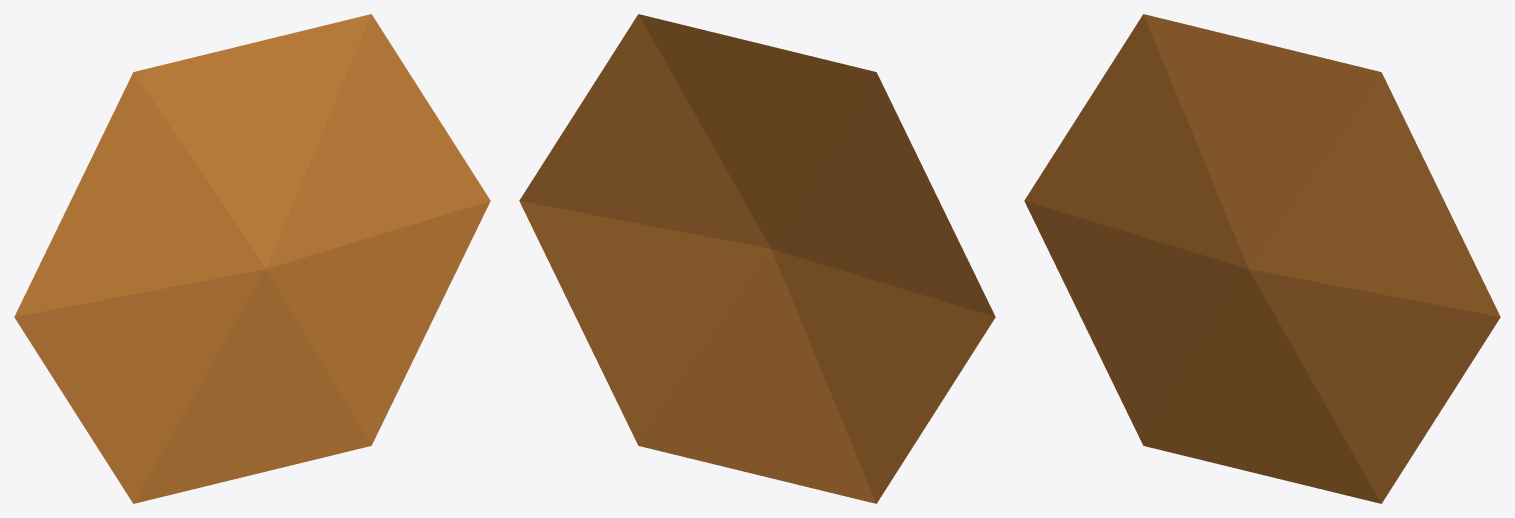
The model's file is shallow_fan.glb.
3 renders of one model, left to right at view 1: azimuth 30°, elevation 25°; view 2: azimuth 150°, elevation 25°; view 3: azimuth 330°, elevation 25°, orthographic.
Parts seen in each view (by area): view 1: Shallow fan; view 2: Shallow fan; view 3: Shallow fan.
Boxes of the visible parts, x1,y1,x2,y2 form: Shallow fan: (14, 14, 490, 503); Shallow fan: (519, 14, 995, 503); Shallow fan: (1024, 14, 1500, 503).
Size of the model in its own units: 2 by 1.73 by 0.1.
